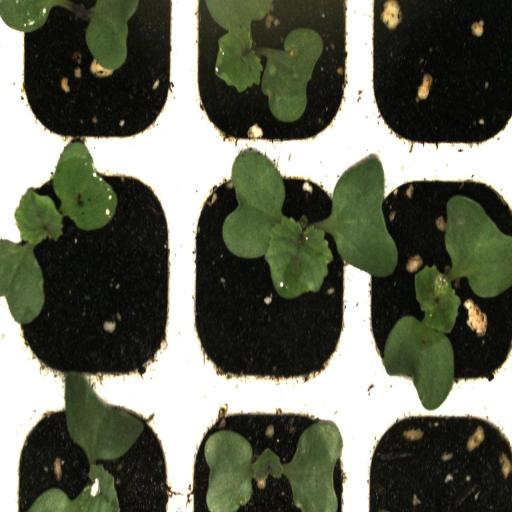Folha: (85, 0, 164, 71), (0, 0, 70, 34)
Germinacao: (184, 164, 366, 395), (0, 163, 185, 389), (366, 161, 512, 405), (184, 0, 365, 162), (8, 0, 185, 162), (5, 394, 184, 512), (184, 397, 364, 512)
